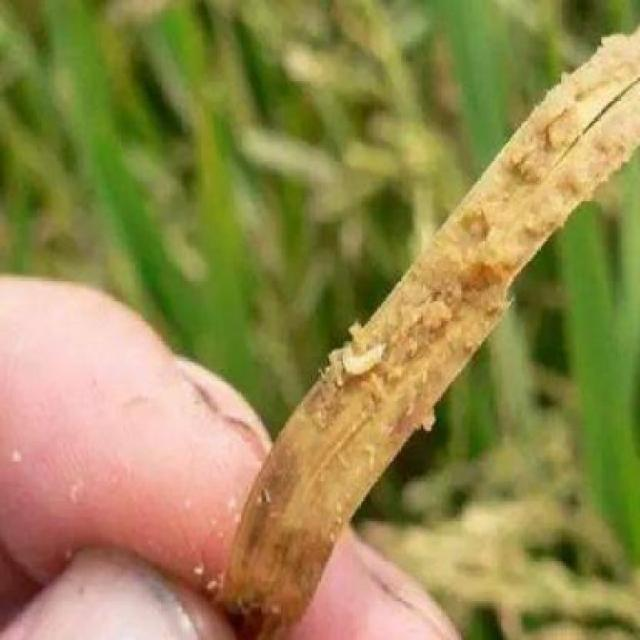whorl-maggot: (342, 335, 392, 374)
